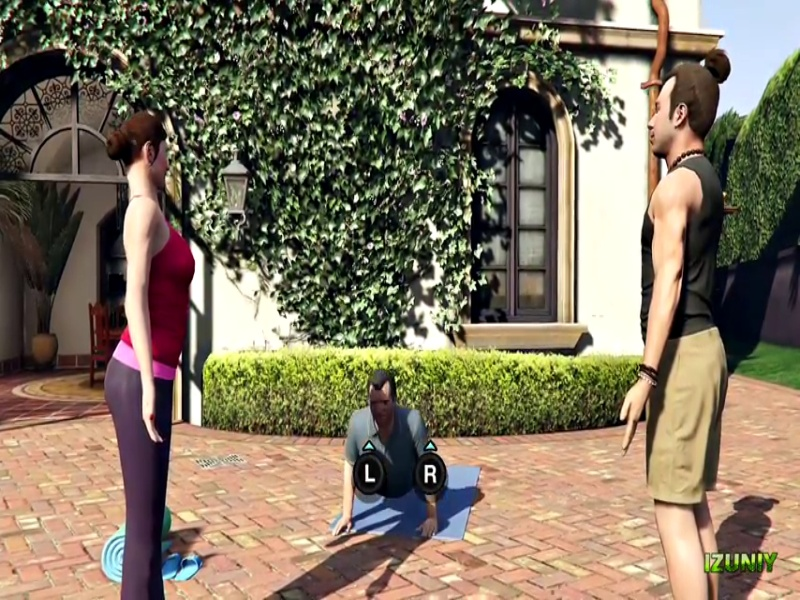human: (95, 120, 196, 600)
